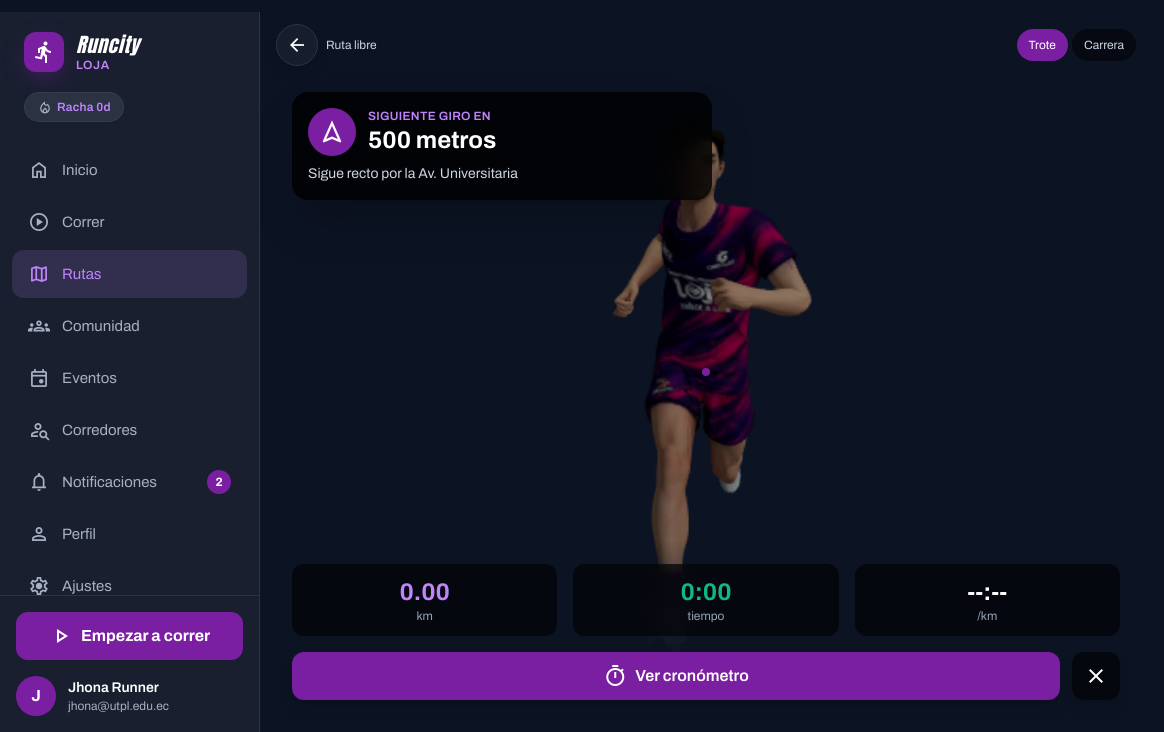
Scenario: rutas › cerrar la navegacion sin tiempo vuelve a rutas
This screenshot has width=1164, height=732.
What coordinates should you click on to do the following:
click the button named "Terminar navegación"
I would click on:
 (1096, 676)
Its box is [1072,652,1120,700].
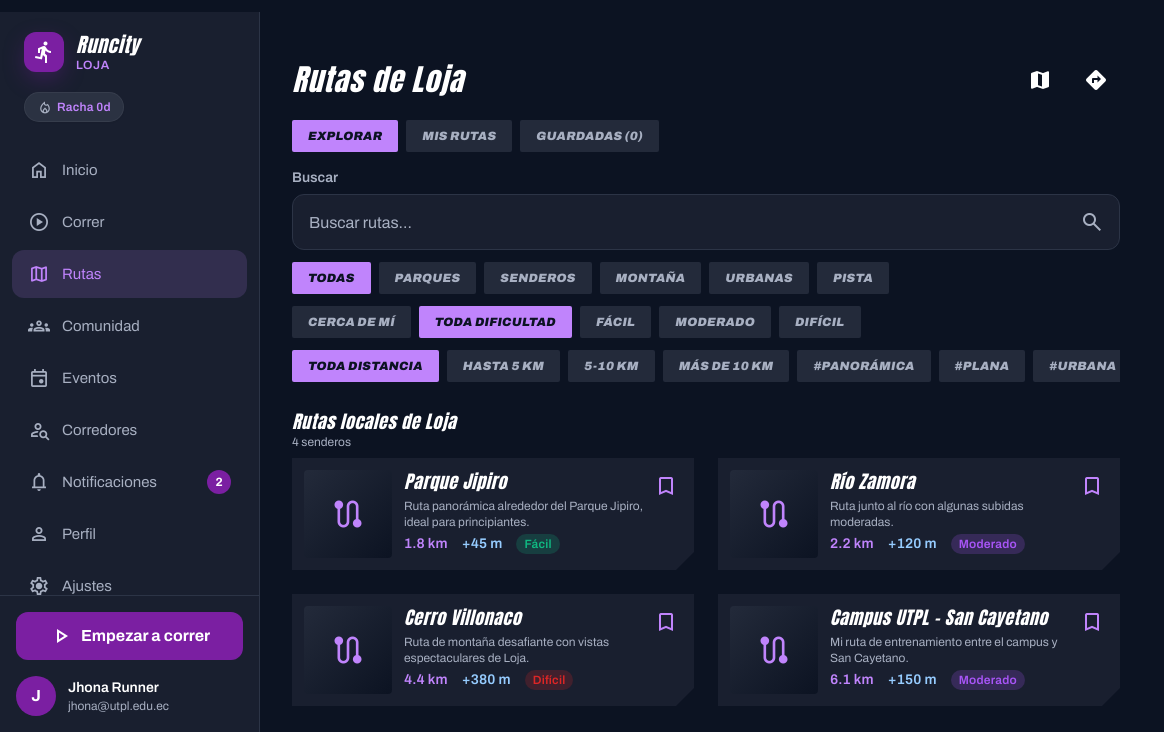
Expected: the heading "Rutas de Loja" is shown, [292,62,464,98]
